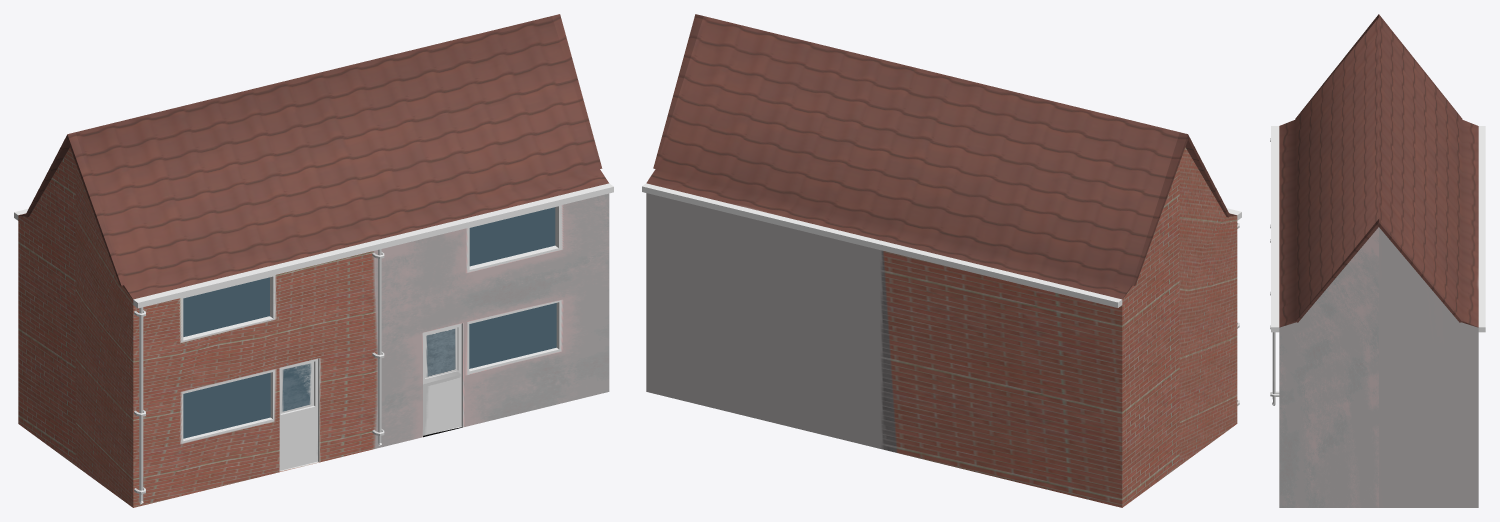
The model's file is House 1.fbx.
The picture shows the model from 3 angles, left to right: view 1: azimuth 30°, elevation 25°; view 2: azimuth 150°, elevation 25°; view 3: azimuth 270°, elevation 25°; orthographic projection. The views are drawn at different scales.
Visible parts, largest first — view 1: pCube1, Drain_Pipe (×2); view 2: pCube1; view 3: pCube1, Drain_Pipe.
Boxes of the visible parts, <box> form: pCube1: <box>14,14,613,507</box>; Drain_Pipe (×2): <box>139,249,381,504</box>; pCube1: <box>642,14,1241,507</box>; pCube1: <box>1271,14,1485,507</box>; Drain_Pipe: <box>1272,332,1275,405</box>.
Size of the model in its own units: 151 by 97.41 by 65.82.
